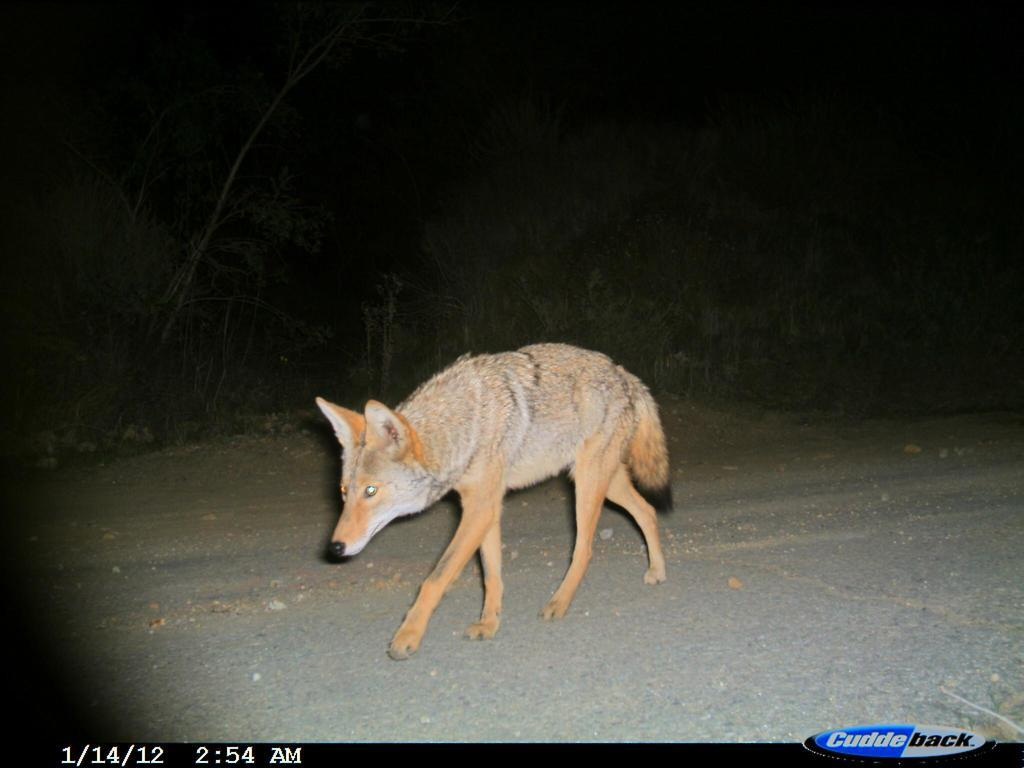coyote: (305, 335, 690, 673)
